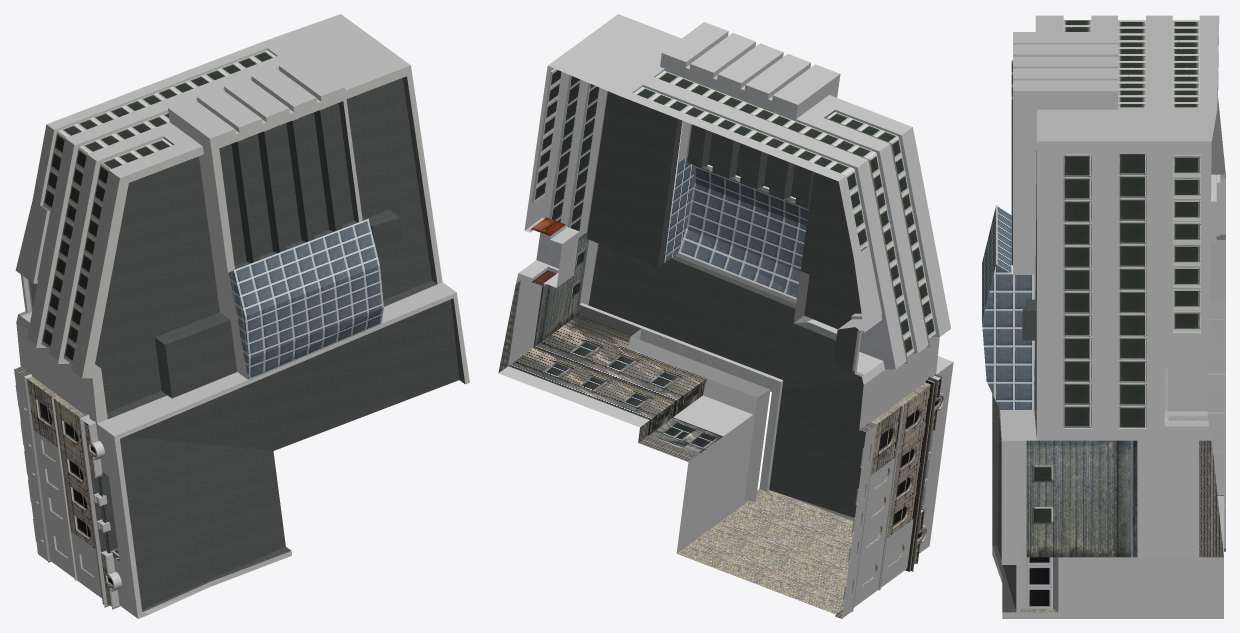
The model's file is Toompuiestee_24.obj.
3 renders of one model, left to right at view 1: azimuth 30°, elevation 25°; view 2: azimuth 150°, elevation 25°; view 3: azimuth 270°, elevation 25°, orthographic. The views are drawn at different scales.
Parts seen in each view (by area): view 1: Toompuiestee_24; view 2: Toompuiestee_24; view 3: Toompuiestee_24.
Boxes of the visible parts, x1,y1,x2,y2 form: Toompuiestee_24: (14, 14, 469, 618); Toompuiestee_24: (498, 14, 953, 618); Toompuiestee_24: (982, 15, 1225, 618).
Bounding box in the file's own units: 31.17 × 37.9 × 14.05.
